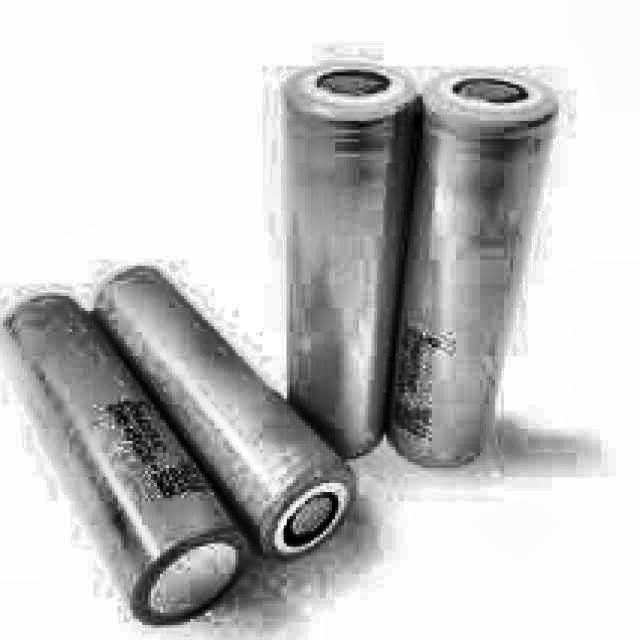battery: (0, 293, 252, 627), (103, 269, 353, 555), (392, 69, 555, 465), (287, 60, 417, 456)
